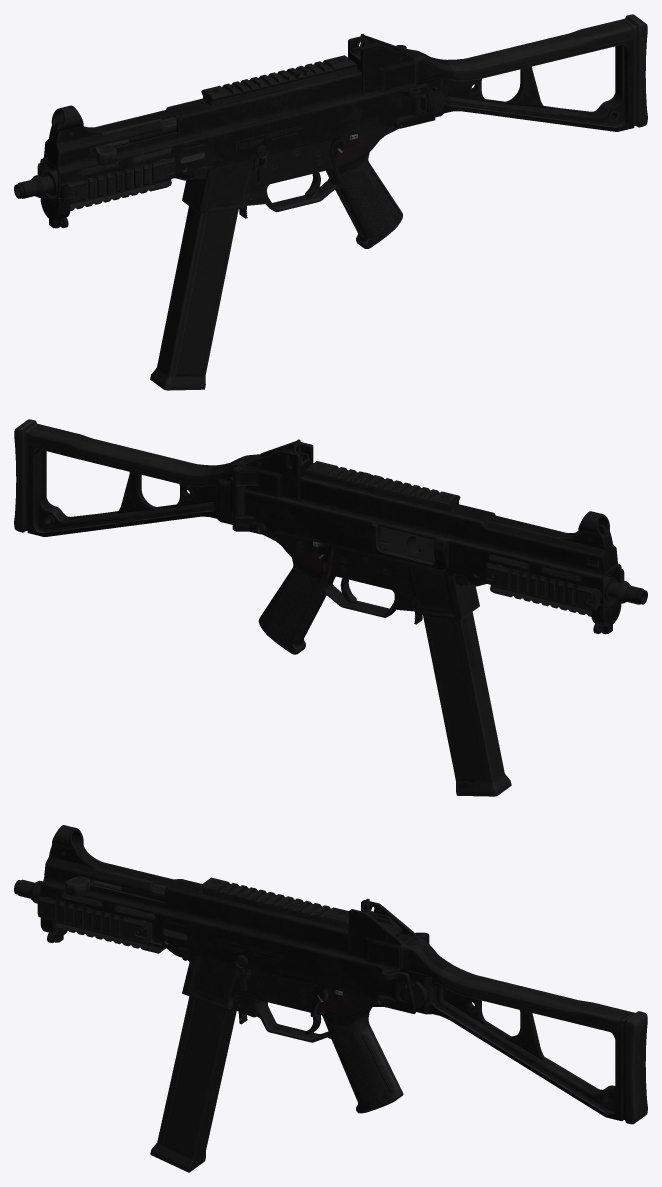
File: weapon_ump45.glb
The picture shows the model from 3 angles, top to bottom: view 1: azimuth 30°, elevation 25°; view 2: azimuth 150°, elevation 25°; view 3: azimuth 330°, elevation 25°; orthographic projection.
Visible parts, largest first — view 1: main_frame_ump45, stock_ump45, grip_ump45, magazine_ump45, barrel_ump45, front_sight_ump45; view 2: main_frame_ump45, stock_ump45, grip_ump45, magazine_ump45, barrel_ump45, front_sight_ump45; view 3: main_frame_ump45, stock_ump45, grip_ump45, magazine_ump45, front_sight_ump45, barrel_ump45.
Part boxes in pixels (x1,y1,x2,y2): main_frame_ump45: (37,35,445,228); stock_ump45: (402,14,647,131); grip_ump45: (182,127,402,248); magazine_ump45: (150,206,238,390); barrel_ump45: (14,148,171,198); front_sight_ump45: (49,105,101,143); main_frame_ump45: (217,441,624,634); stock_ump45: (14,419,259,536); grip_ump45: (258,533,479,654); magazine_ump45: (423,612,511,796); barrel_ump45: (490,554,647,604); front_sight_ump45: (560,511,612,549); main_frame_ump45: (37,856,432,1013); stock_ump45: (400,935,647,1124); grip_ump45: (182,954,403,1113); magazine_ump45: (150,996,236,1172); front_sight_ump45: (49,825,101,867); barrel_ump45: (14,879,154,918).
Bounding box in the file's own units: 85.1 × 40.26 × 8.23.
2 materials, 2 textured.
